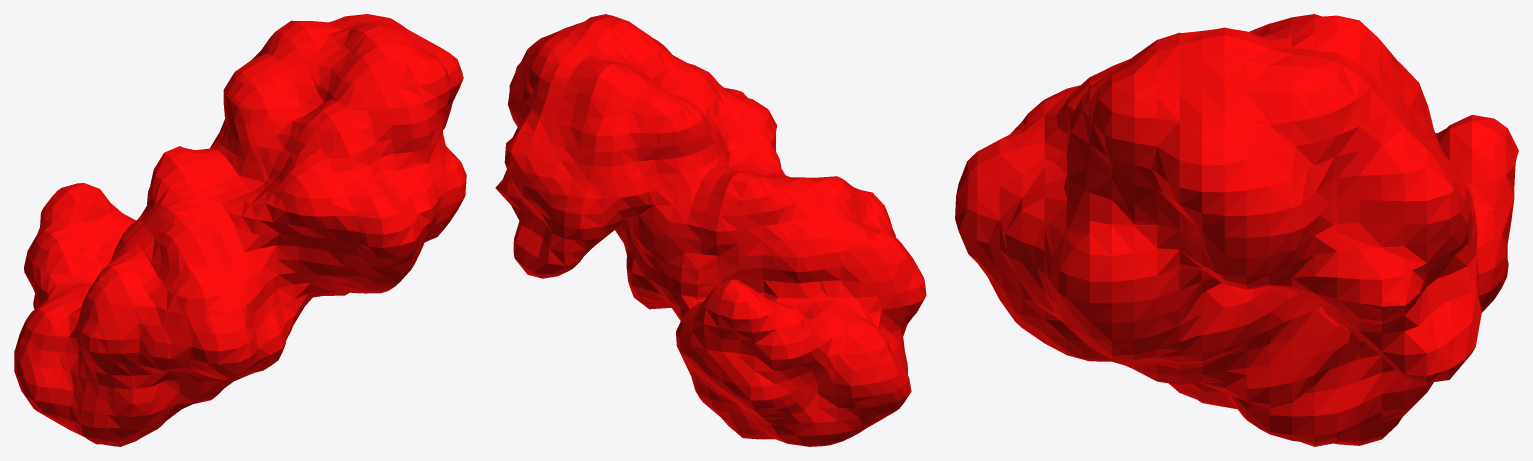
The model's file is yqjG_coarse.dae.
3 views of the same model, side by side, from view 1: azimuth 30°, elevation 25°; view 2: azimuth 150°, elevation 25°; view 3: azimuth 270°, elevation 25° (orthographic). The views are drawn at different scales.
Visible parts, largest first — view 1: yqjG; view 2: yqjG; view 3: yqjG.
Part boxes in pixels (x1=…): yqjG: x1=14, y1=14, x2=466, y2=446; yqjG: x1=495, y1=14, x2=926, y2=446; yqjG: x1=955, y1=14, x2=1518, y2=446.
Bounding box in the file's own units: 93.65 × 76.95 × 67.65.
